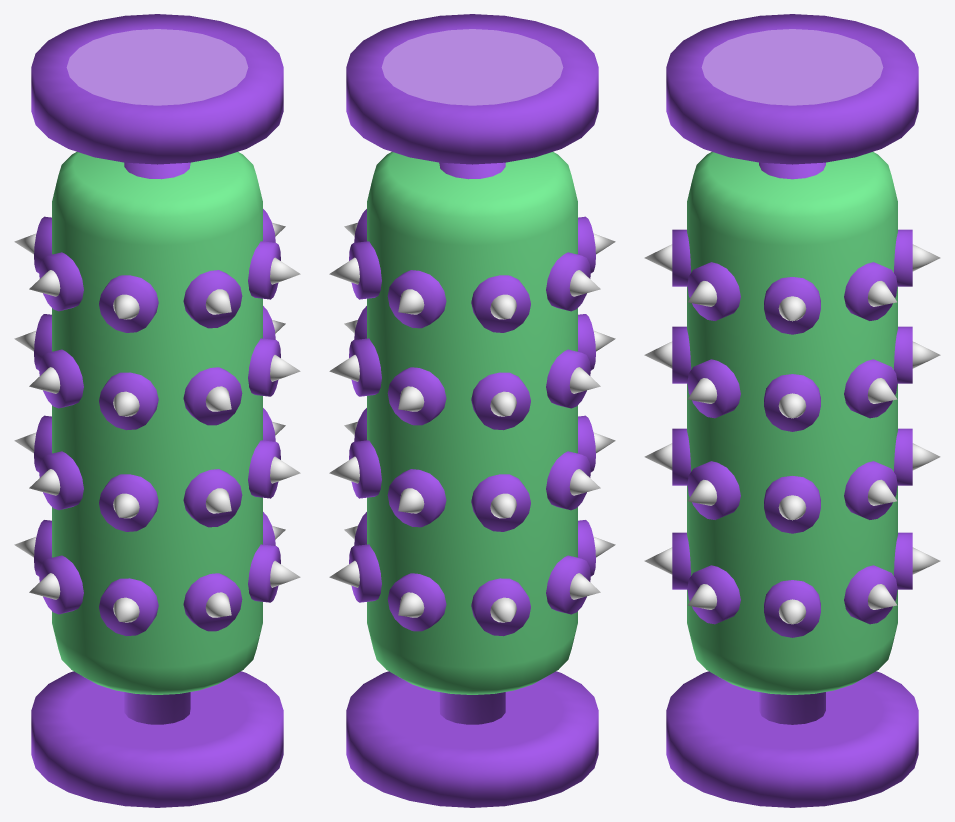
File: Obstacle 20 V4.fbx
The picture shows the model from 3 angles, left to right: view 1: azimuth 30°, elevation 25°; view 2: azimuth 150°, elevation 25°; view 3: azimuth 270°, elevation 25°; orthographic projection.
Visible parts, largest first — view 1: O20 Part 1, O20 Part 2; view 2: O20 Part 1, O20 Part 2; view 3: O20 Part 1, O20 Part 2.
Part boxes in pixels (x1,y1,x2,y2): O20 Part 1: [14, 152, 300, 694]; O20 Part 2: [31, 14, 283, 807]; O20 Part 1: [329, 152, 615, 694]; O20 Part 2: [346, 14, 598, 807]; O20 Part 1: [644, 152, 940, 694]; O20 Part 2: [666, 14, 918, 807].
Size of the model in its own units: 66.38 by 170 by 66.38.
1 material, 1 textured.
